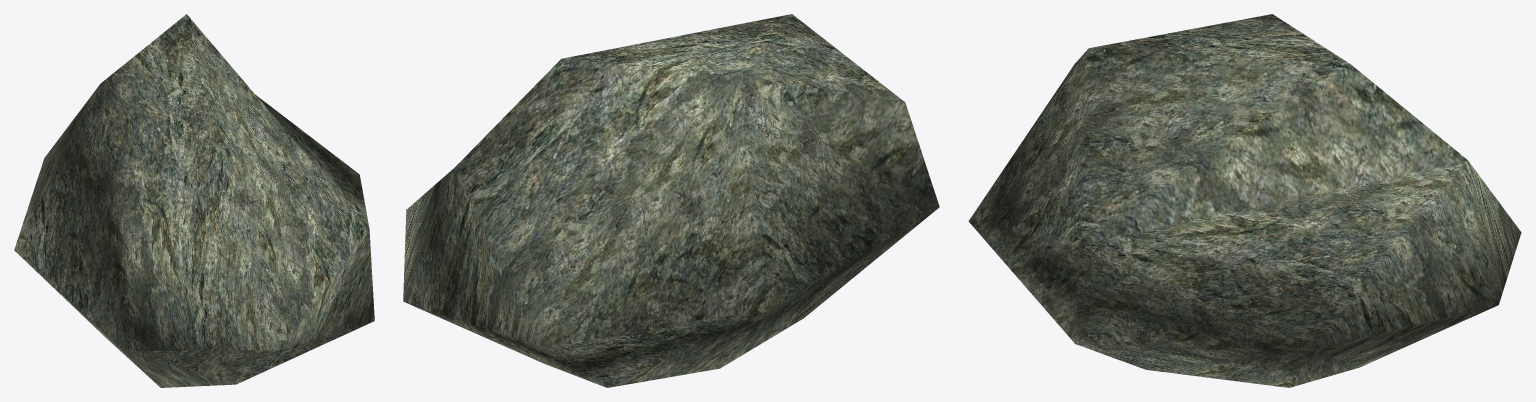
The model's file is mtns_rock_grey_l2.fbx.
3 renders of one model, left to right at view 1: azimuth 30°, elevation 25°; view 2: azimuth 150°, elevation 25°; view 3: azimuth 270°, elevation 25°, orthographic. The views are drawn at different scales.
Parts seen in each view (by area): view 1: mesh_node; view 2: mesh_node; view 3: mesh_node.
Boxes of the visible parts, x1=… form: mesh_node: x1=14, y1=14, x2=374, y2=387; mesh_node: x1=403, y1=14, x2=939, y2=387; mesh_node: x1=968, y1=14, x2=1521, y2=387.
Size of the model in its own units: 1.52 by 1.12 by 1.89.
1 material, 1 textured.
